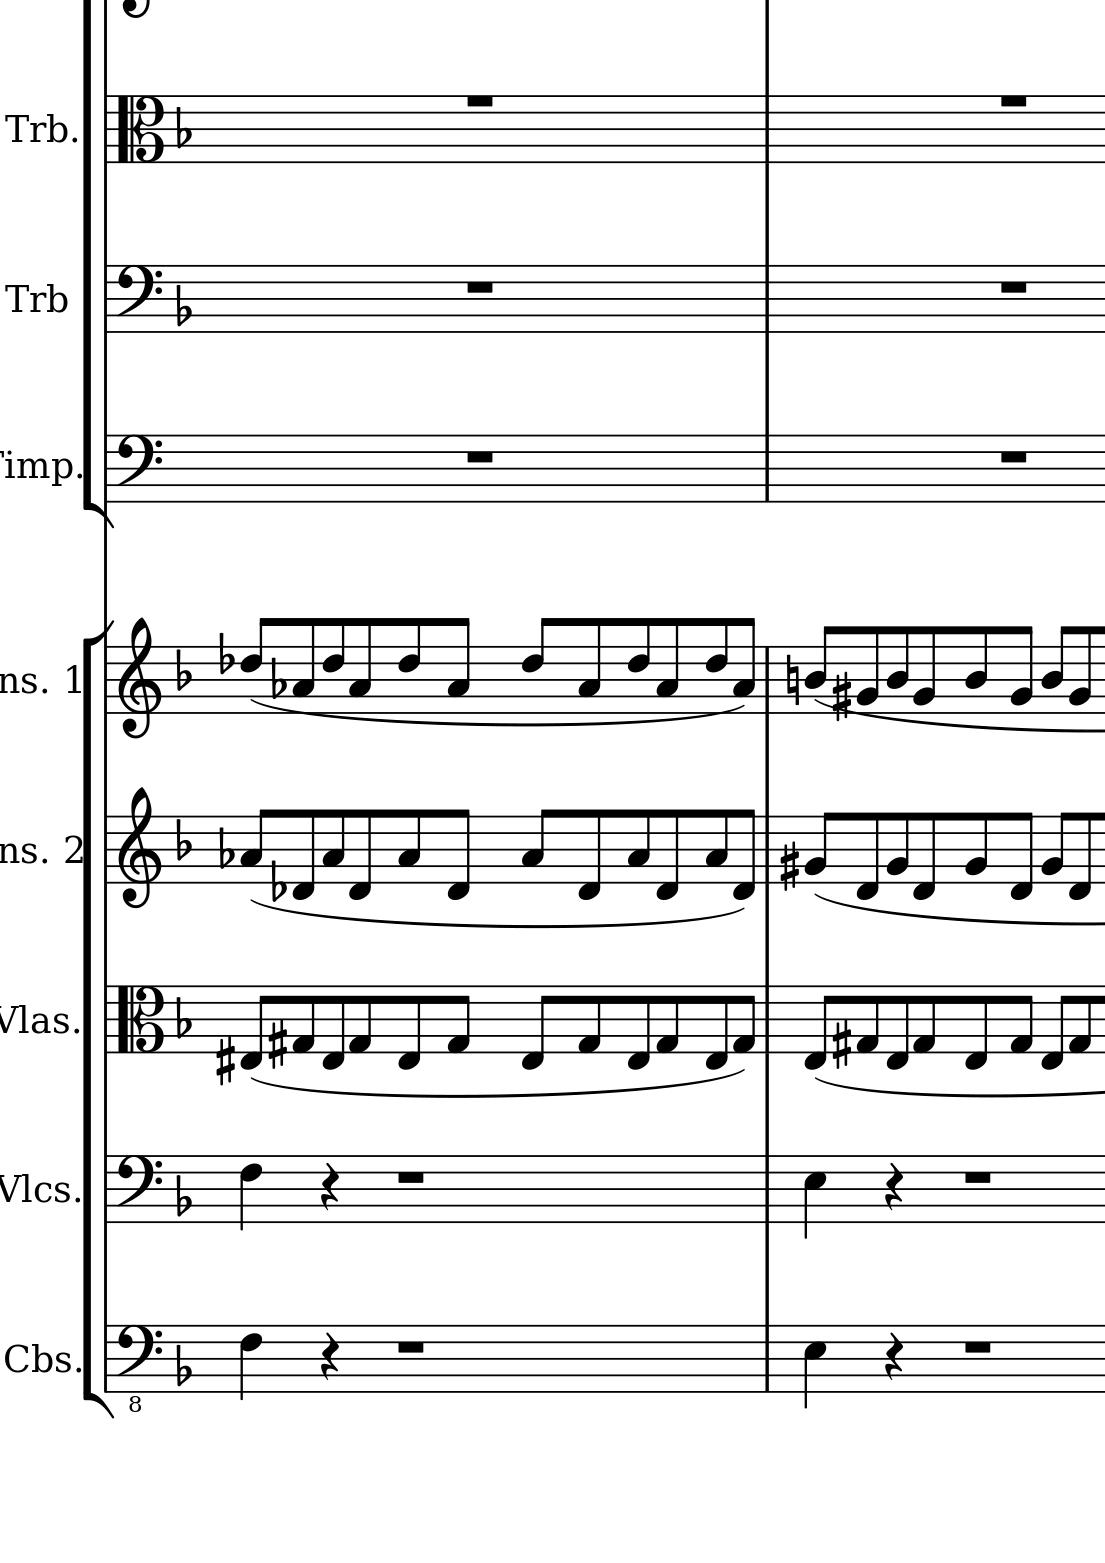4_5: (801, 1153, 828, 1241), (801, 1321, 826, 1411)
4_6: (236, 1153, 263, 1232), (236, 1323, 263, 1402)
8_-1: (518, 983, 552, 1075), (800, 982, 835, 1071), (238, 983, 271, 1071), (444, 806, 472, 904), (346, 807, 374, 903), (1038, 983, 1068, 1073), (575, 807, 603, 904), (393, 983, 423, 1071), (1007, 810, 1034, 904), (654, 806, 680, 903), (853, 810, 880, 902), (1066, 810, 1093, 902), (731, 806, 757, 902), (289, 807, 316, 902), (961, 983, 989, 1071), (911, 810, 938, 902), (624, 983, 651, 1071), (703, 983, 728, 1071), (884, 983, 909, 1071), (320, 983, 344, 1071)
8_1: (574, 983, 602, 1056), (444, 984, 471, 1055), (729, 984, 757, 1055), (911, 983, 938, 1056), (1008, 983, 1034, 1056), (347, 983, 373, 1055), (654, 983, 680, 1055), (289, 983, 316, 1054), (855, 983, 880, 1055), (1066, 984, 1091, 1056)
8_2: (910, 624, 938, 715), (802, 810, 836, 884), (854, 624, 880, 714), (1007, 625, 1033, 715), (1068, 625, 1093, 716), (1040, 810, 1069, 884), (961, 810, 989, 885), (885, 811, 909, 884)
8_3: (289, 615, 318, 715), (574, 616, 603, 716), (444, 613, 471, 715), (653, 616, 680, 718), (346, 616, 373, 715), (729, 616, 756, 718), (238, 807, 271, 885), (519, 808, 552, 886), (395, 807, 422, 886), (624, 807, 652, 885), (702, 807, 729, 885), (320, 806, 346, 883)
8_4: (802, 623, 836, 712), (1039, 623, 1072, 714), (961, 624, 990, 718), (884, 624, 909, 714)
8_6: (518, 616, 552, 714), (238, 613, 270, 715), (395, 615, 422, 716), (702, 615, 728, 716), (624, 615, 651, 714), (320, 615, 344, 713)
Bracke: (78, 613, 116, 1419)
Cclef: (112, 93, 164, 164), (115, 983, 166, 1054)
Fclef: (114, 432, 164, 506), (114, 1154, 163, 1227), (115, 263, 161, 335)
Flat: (172, 105, 197, 153), (172, 994, 194, 1042), (171, 647, 193, 692), (214, 629, 236, 674), (173, 282, 194, 329), (214, 824, 234, 871), (172, 816, 193, 861), (173, 1342, 193, 1388), (173, 1173, 193, 1219), (269, 857, 286, 903), (269, 655, 286, 700)
Gclef: (114, 615, 163, 740), (116, 784, 161, 910)
Lower_Fclef: (114, 1321, 165, 1414)
Natural: (782, 653, 801, 707)
Rests1: (995, 88, 1032, 111), (462, 445, 497, 468), (462, 90, 497, 111), (995, 446, 1031, 468), (462, 276, 497, 297), (995, 276, 1031, 297), (392, 1337, 428, 1357), (959, 1337, 995, 1357), (960, 1167, 995, 1186), (393, 1167, 427, 1186)
Rests4: (881, 1161, 905, 1213), (883, 1331, 905, 1382), (318, 1161, 340, 1213), (318, 1331, 340, 1382)
Sharp: (776, 839, 800, 893), (213, 1034, 236, 1087), (830, 1018, 851, 1071), (831, 671, 851, 725), (267, 1018, 287, 1071)
Single_barline: (756, 267, 777, 332), (97, 94, 117, 163), (96, 987, 116, 1054), (756, 1325, 776, 1392), (756, 97, 776, 161), (757, 1156, 776, 1222), (757, 816, 775, 884), (98, 816, 116, 884), (98, 265, 116, 332), (758, 987, 776, 1054), (98, 1156, 116, 1223), (757, 436, 775, 502), (99, 645, 116, 714), (759, 646, 776, 715), (98, 1326, 115, 1393), (97, 436, 112, 503)
Slur: (249, 898, 750, 932), (255, 698, 747, 728), (243, 1076, 746, 1099)
Tpt: (1, 275, 67, 317)
Trb: (2, 104, 69, 147)
Vlc: (1, 1166, 51, 1210), (1, 999, 50, 1042)
